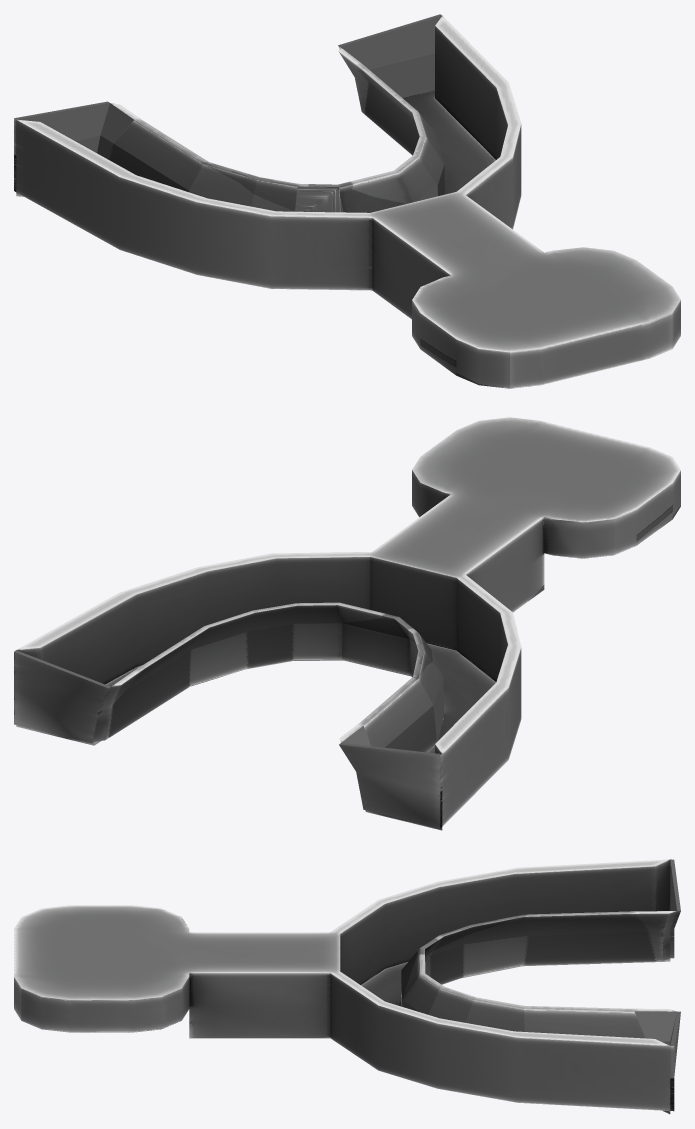
The model's file is tray1.fbx.
3 renders of one model, top to bottom at view 1: azimuth 30°, elevation 25°; view 2: azimuth 150°, elevation 25°; view 3: azimuth 270°, elevation 25°, orthographic. The views are drawn at different scales.
Parts seen in each view (by area): view 1: Cube; view 2: Cube; view 3: Cube.
Part boxes in pixels (left/top/right/bottom): Cube: left=14, top=14, right=680, bottom=388; Cube: left=14, top=417, right=680, bottom=830; Cube: left=14, top=859, right=680, bottom=1114.
Size of the model in its own units: 22.66 by 3.89 by 34.25.
